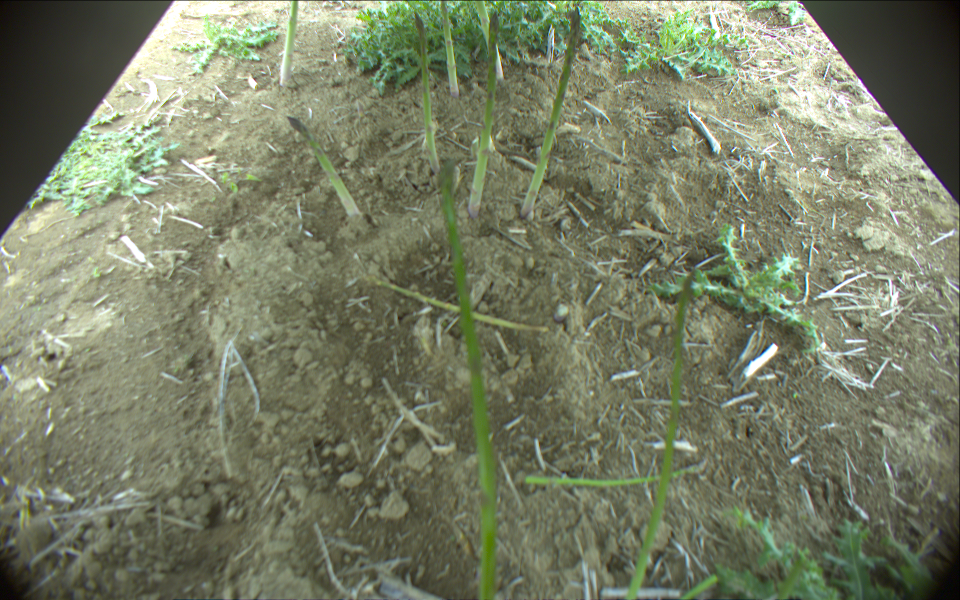aspa: (434, 160, 498, 600), (625, 268, 695, 600), (521, 11, 584, 219), (363, 276, 550, 334), (467, 9, 504, 218), (289, 115, 362, 218), (525, 453, 715, 488), (413, 9, 442, 171), (464, 1, 505, 82), (434, 1, 462, 96), (279, 1, 303, 85)
